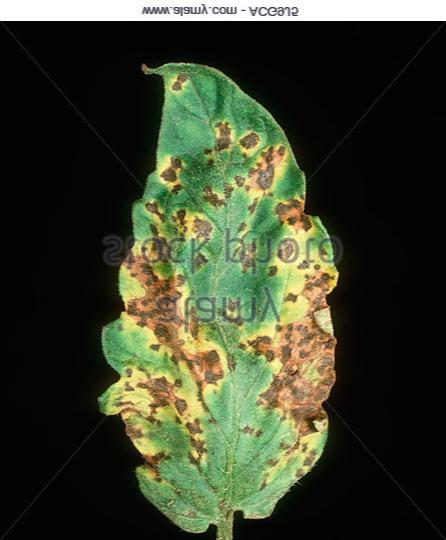Tomato Septoria leaf spot: (89, 56, 357, 532)
